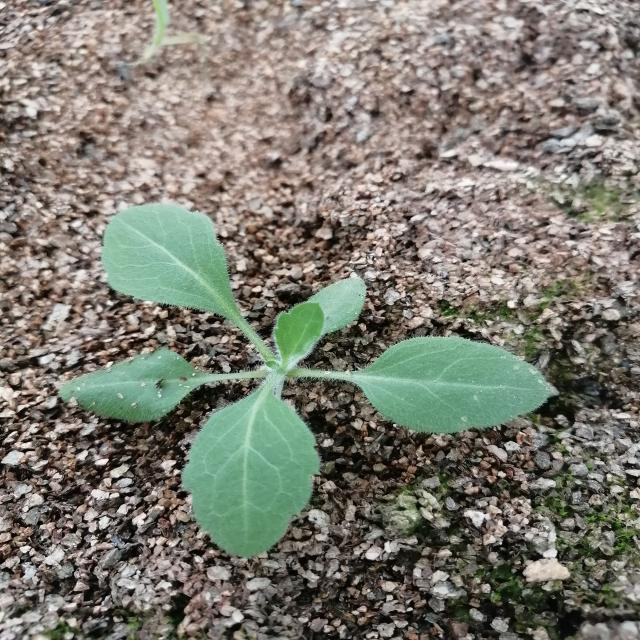horseweed: (69, 189, 544, 547)
